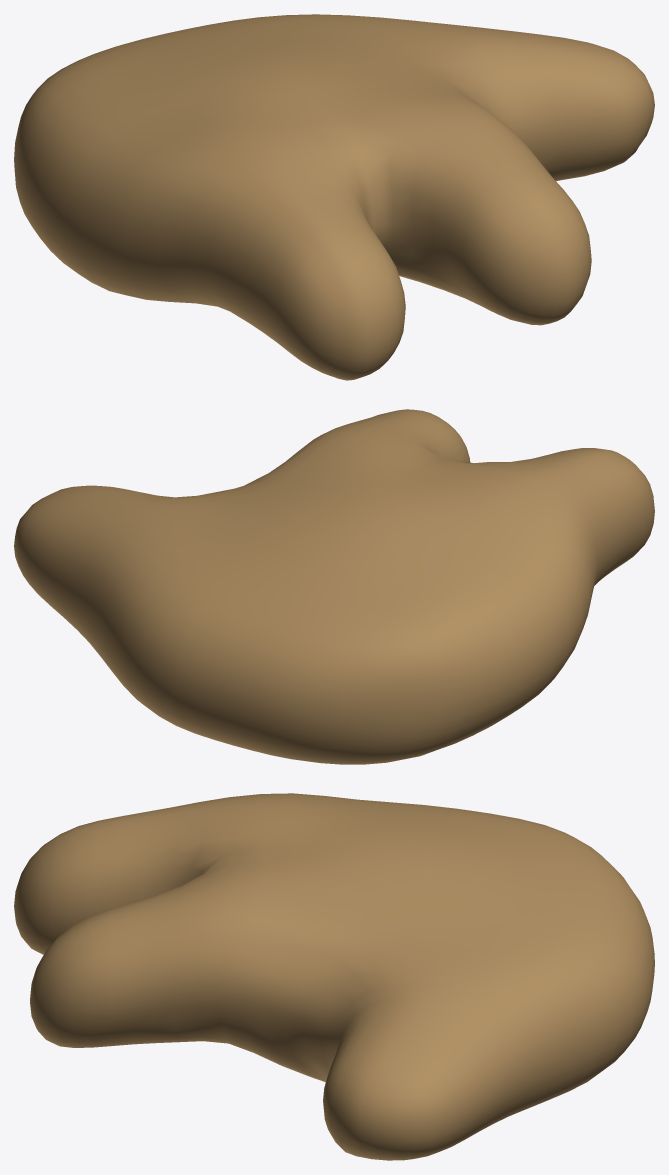
The model's file is right-hand.fbx.
3 renders of one model, top to bottom at view 1: azimuth 30°, elevation 25°; view 2: azimuth 150°, elevation 25°; view 3: azimuth 270°, elevation 25°, orthographic. The views are drawn at different scales.
Visible parts, largest first — view 1: Right Hand; view 2: Right Hand; view 3: Right Hand.
Boxes of the visible parts, x1,y1,x2,y2 form: Right Hand: (14, 14, 654, 380); Right Hand: (14, 409, 654, 764); Right Hand: (14, 793, 654, 1160).
Bounding box in the file's own units: 15.99 × 5.25 × 15.84.
